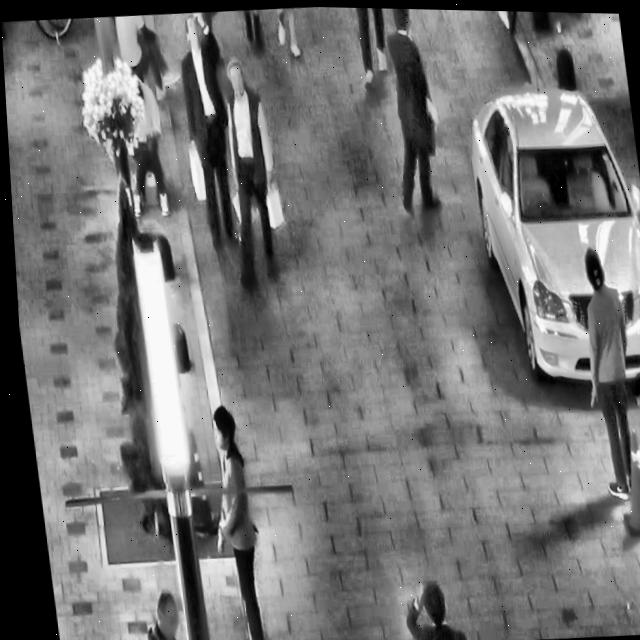light_vehicle: (452, 60, 640, 394)
